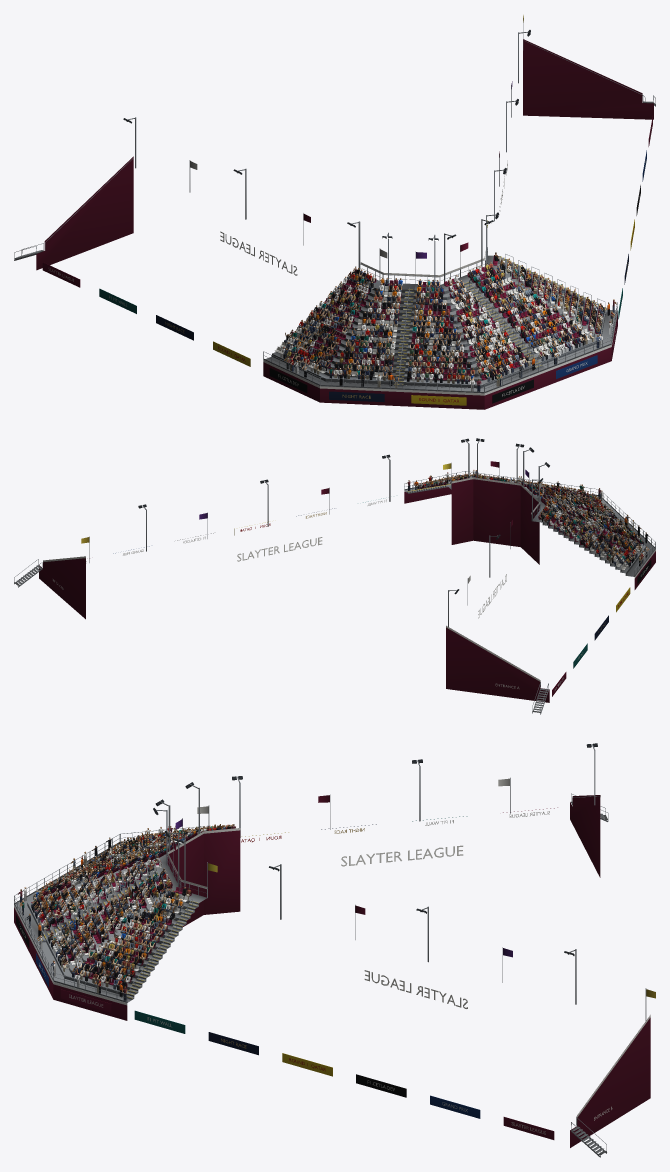
Rendered from stand_T2_shell.glb.
3 renders of one model, top to bottom at view 1: azimuth 30°, elevation 25°; view 2: azimuth 150°, elevation 25°; view 3: azimuth 270°, elevation 25°, orthographic. The views are drawn at different scales.
Visible parts, largest first — view 1: stand_T2_shell; view 2: stand_T2_shell; view 3: stand_T2_shell.
Boxes of the visible parts, box(x1,y1,x2,y2) form: stand_T2_shell: box(14, 15, 655, 409); stand_T2_shell: box(14, 438, 655, 714); stand_T2_shell: box(14, 743, 655, 1157).
Bounding box in the file's own units: 89.84 × 16.08 × 71.59.
